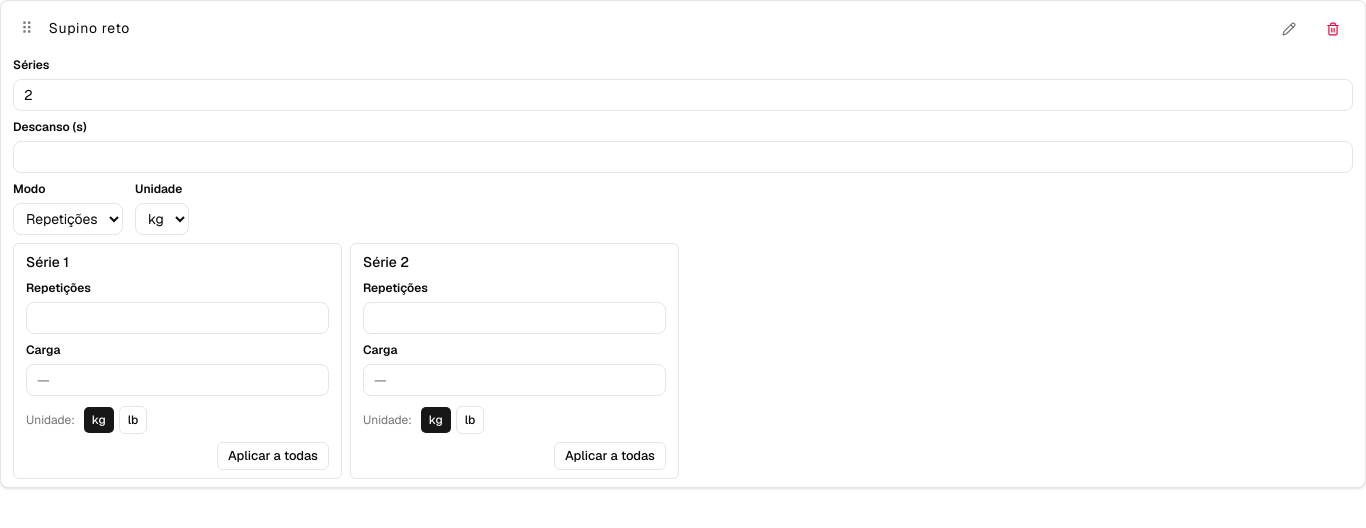
Test: ExerciseEntryCard › descanso (campo único — D4) › descanso inválido ('abc') mostra 'Use um número inteiro maior ou igual a zero para descanso.' e não commita
Type "abc" into the field labelled "Descanso (s)" at coordinates (683, 157), box x1=13 y1=141 x2=1353 y2=173
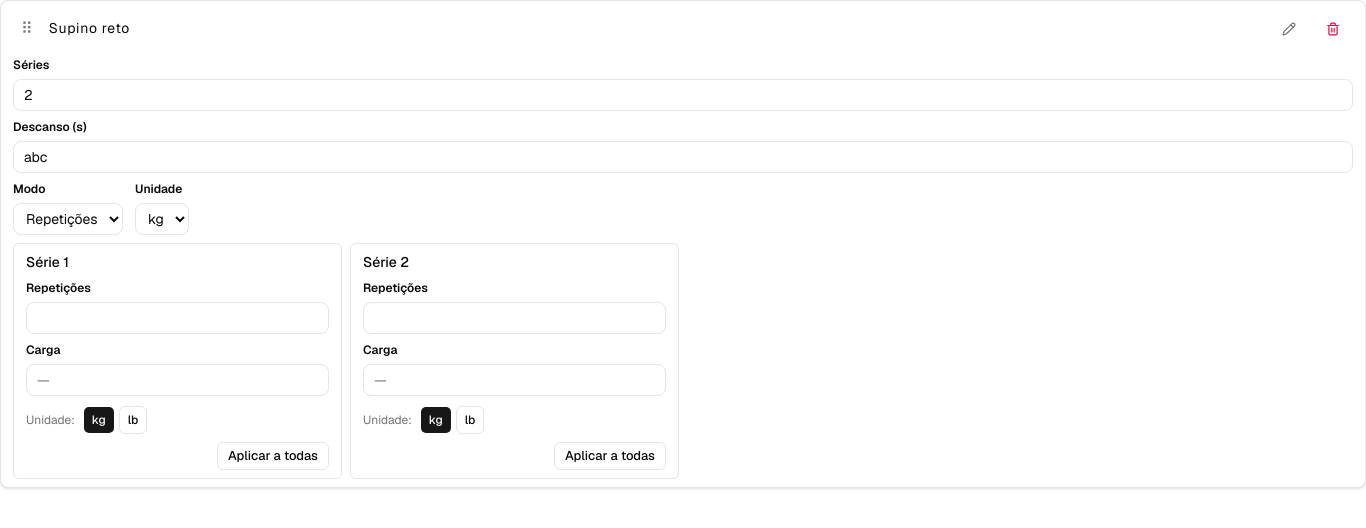
Leave the field labelled "Descanso (s)", box x1=13 y1=141 x2=1353 y2=173
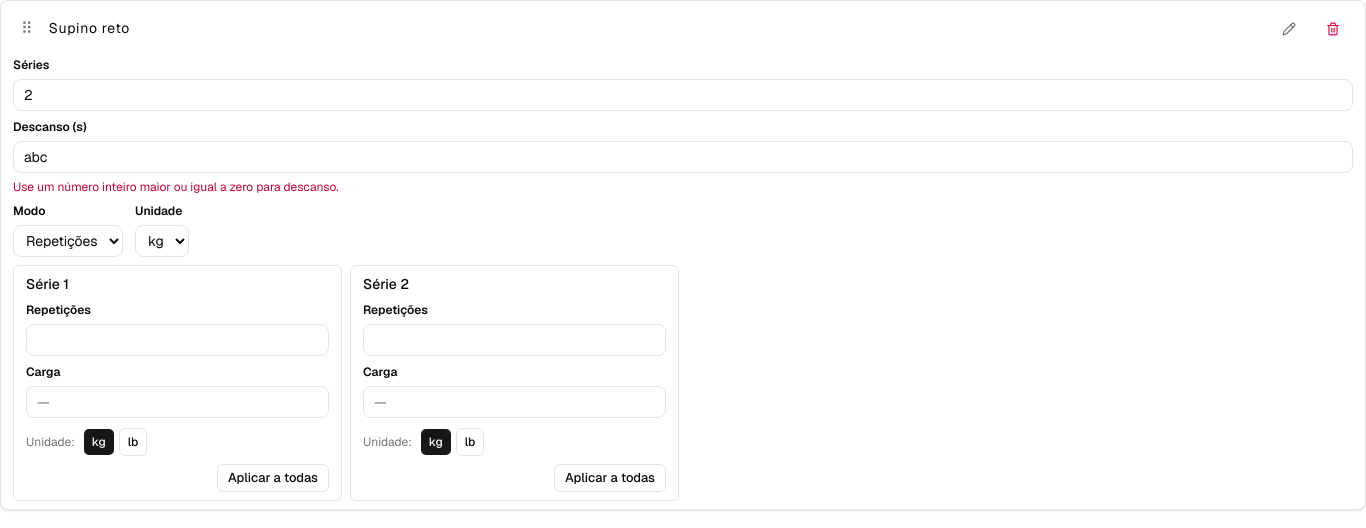
expect the text "Use um número inteiro maior ou igual a zero para descanso." is shown: met, box x1=13 y1=179 x2=339 y2=195
